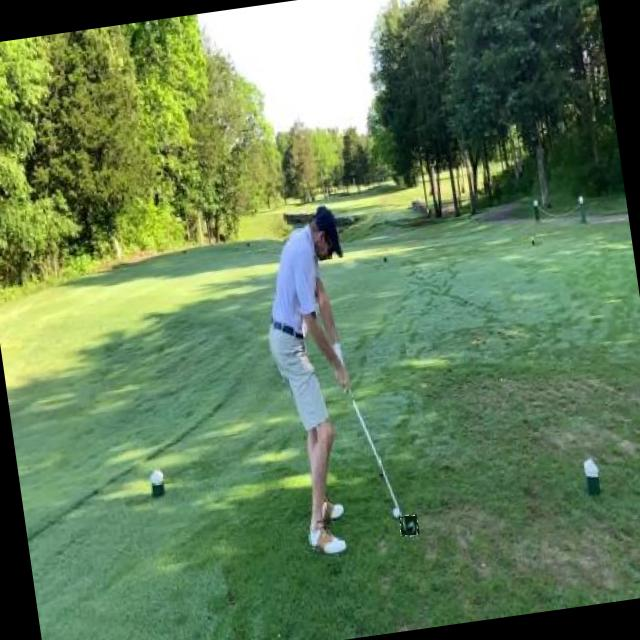club head: (400, 514, 420, 537)
